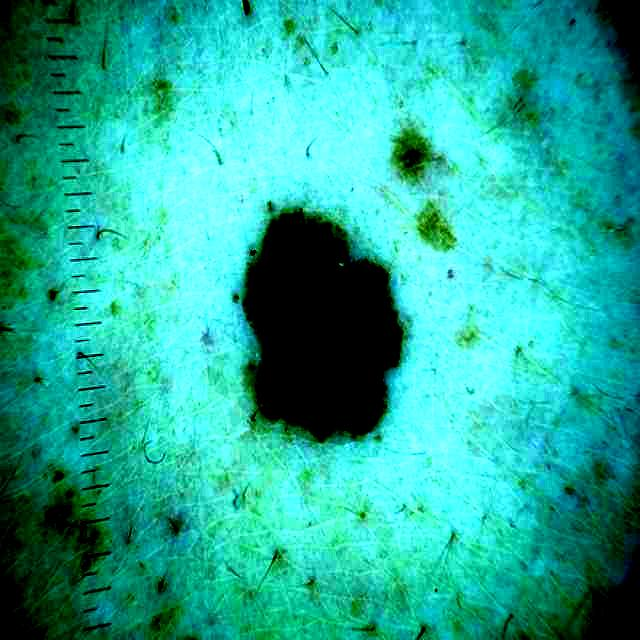MEL: (247, 212, 401, 436)
